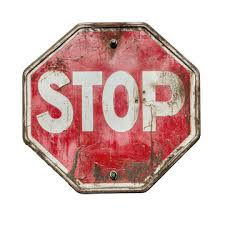stop sign: (21, 21, 200, 193)
